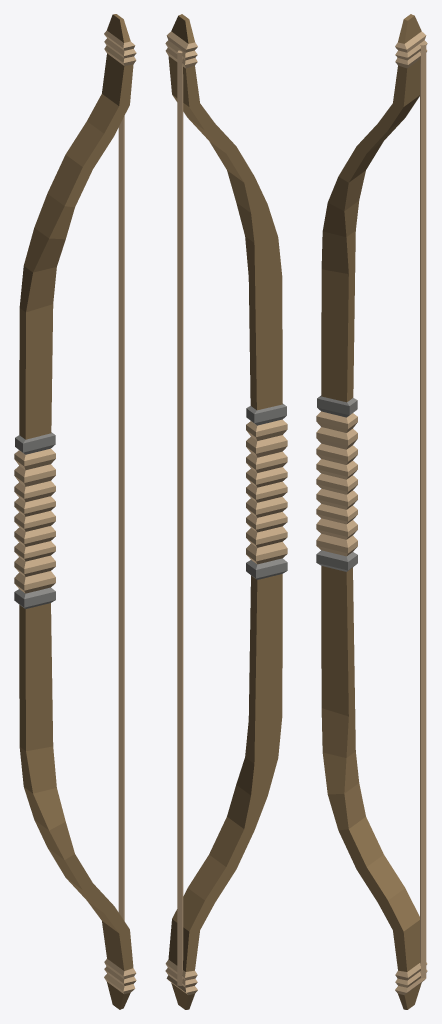
File: SM_pwe_rome_bow_02.fbx
3 renders of one model, left to right at view 1: azimuth 30°, elevation 25°; view 2: azimuth 210°, elevation 25°; view 3: azimuth 330°, elevation 25°, orthographic.
Parts seen in each view (by area): view 1: SM_pwe_rome_bow_02; view 2: SM_pwe_rome_bow_02; view 3: SM_pwe_rome_bow_02.
Boxes of the visible parts, box(x1,y1,x2,y2) form: SM_pwe_rome_bow_02: box(14, 14, 136, 1009); SM_pwe_rome_bow_02: box(165, 14, 287, 1009); SM_pwe_rome_bow_02: box(316, 14, 427, 1009).
Bounding box in the file's own units: 10.58 × 94.76 × 3.52.
